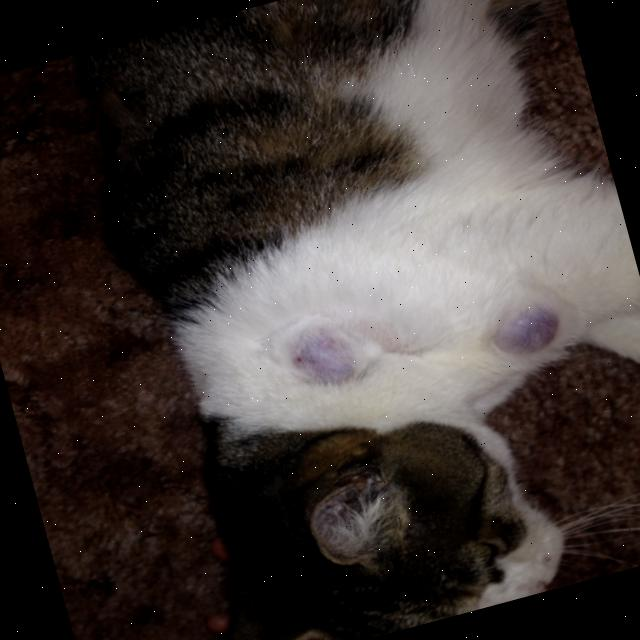cat-lump-and-bump: (278, 312, 376, 409), (478, 290, 576, 370)
